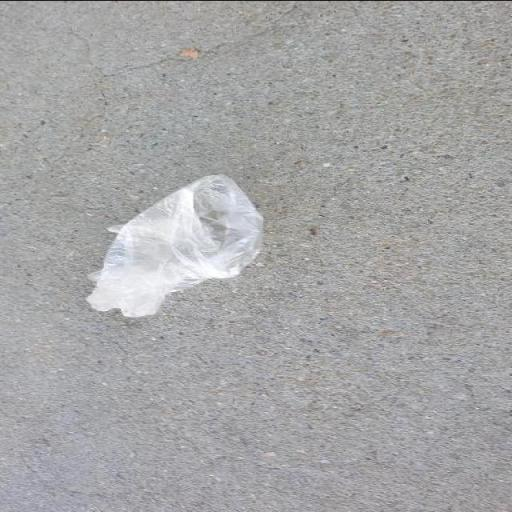plastic-bag: (88, 170, 270, 318)
